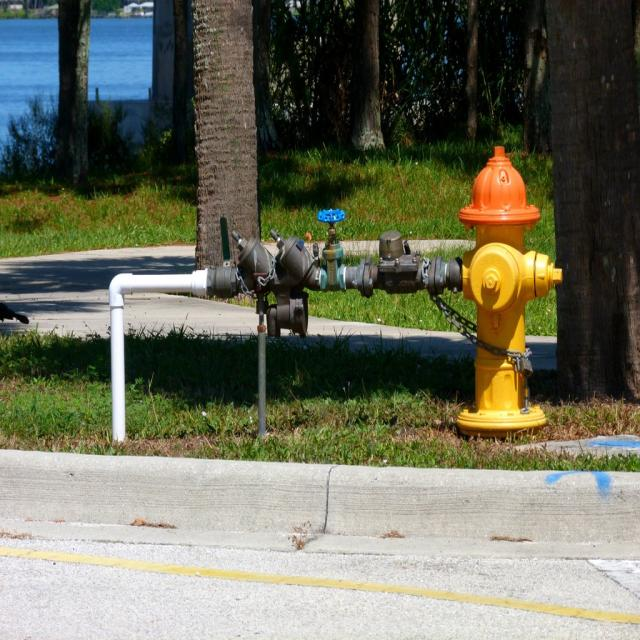fire_hydrant: (453, 144, 562, 437), (457, 146, 562, 440)
